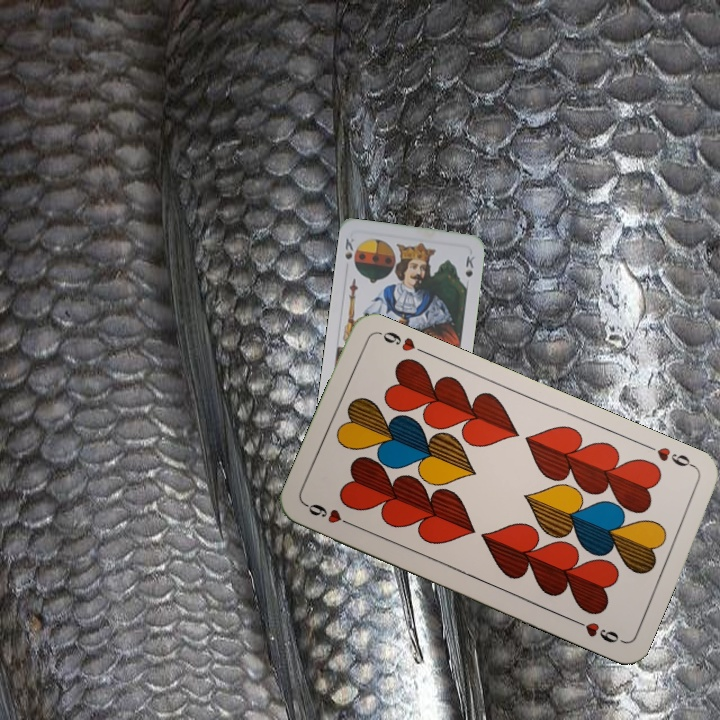H9: (302, 499, 358, 530), (642, 440, 698, 471)
SK: (341, 234, 357, 262)
